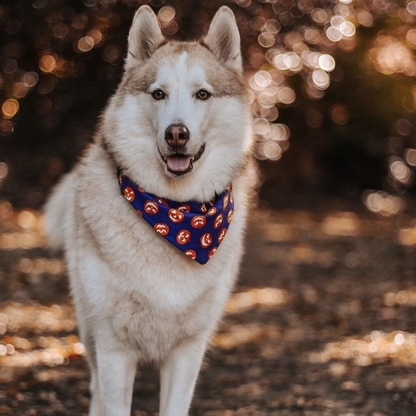husky: (35, 2, 263, 416)
